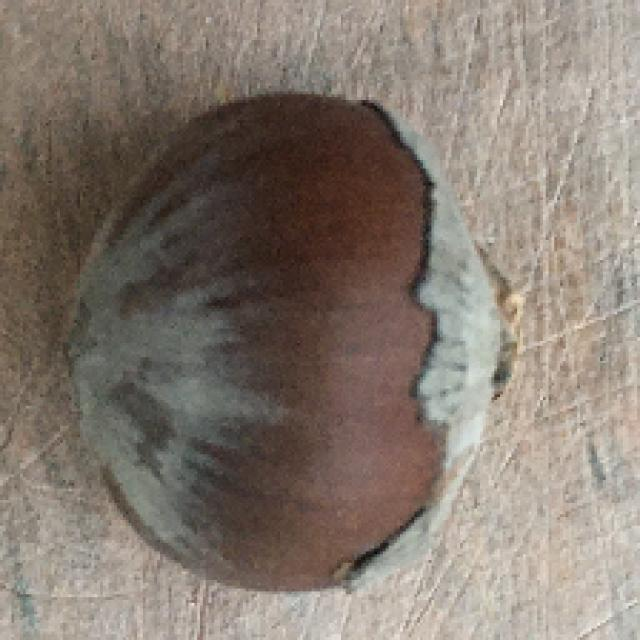DamagedHazelnut: (58, 92, 526, 596)
